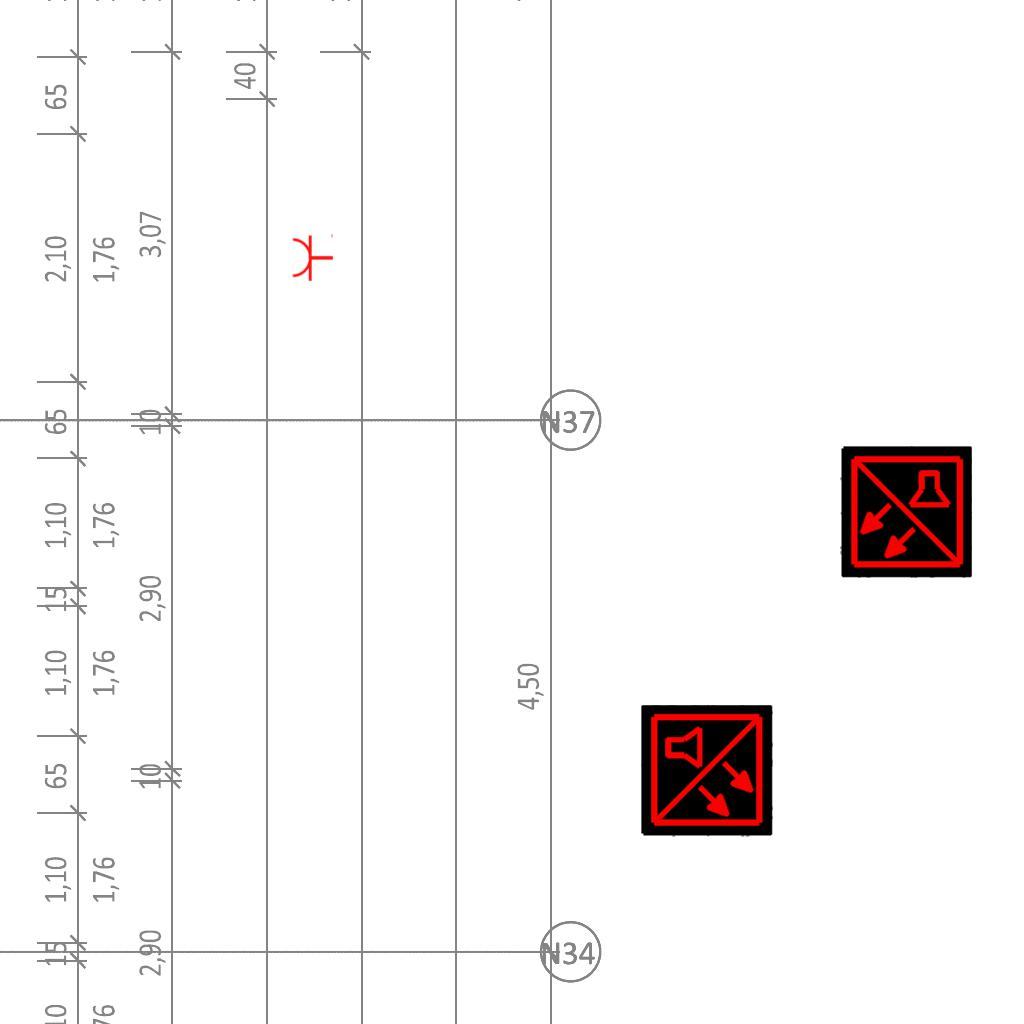OKW_Multisensormelder_(Kombination_optischer_Rauch-Kahlenmonoxid_Waerme-Melder): (840, 446, 972, 578), (641, 705, 773, 837)
Schukosteckdose_einfach: (291, 232, 334, 282)
